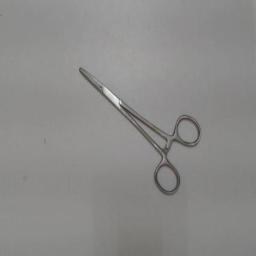Mayo Needle Holder: (68, 55, 204, 199)
